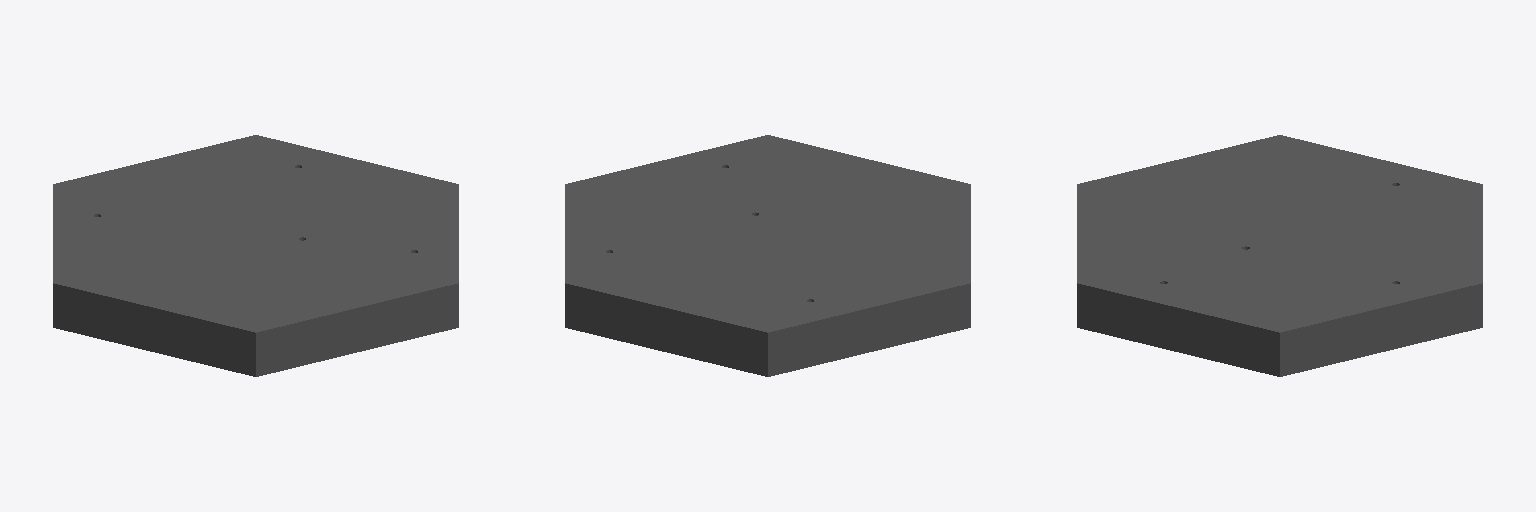
File: hex.obj
3 views of the same model, side by side, from view 1: azimuth 30°, elevation 25°; view 2: azimuth 150°, elevation 25°; view 3: azimuth 270°, elevation 25° (orthographic).
Parts seen in each view (by area): view 1: StainlessSteel_hex; view 2: StainlessSteel_hex; view 3: StainlessSteel_hex.
Part boxes in pixels (x1,y1,x2,y2): StainlessSteel_hex: (53,135,458,376); StainlessSteel_hex: (565,135,970,376); StainlessSteel_hex: (1077,135,1482,376).
Bounding box in the file's own units: 0.1211 × 0.0127 × 0.1049.